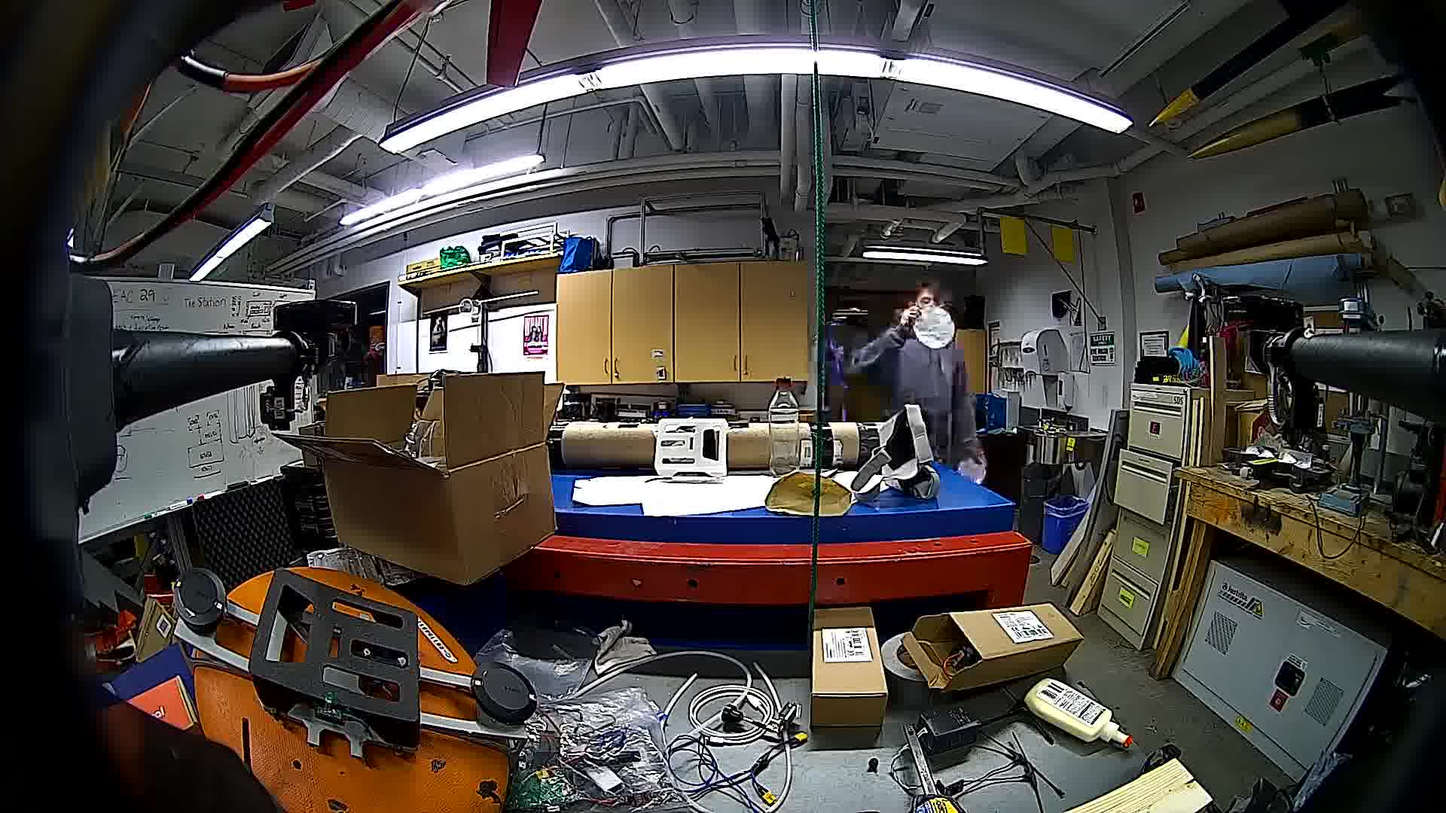Target: (910, 304, 958, 352)
